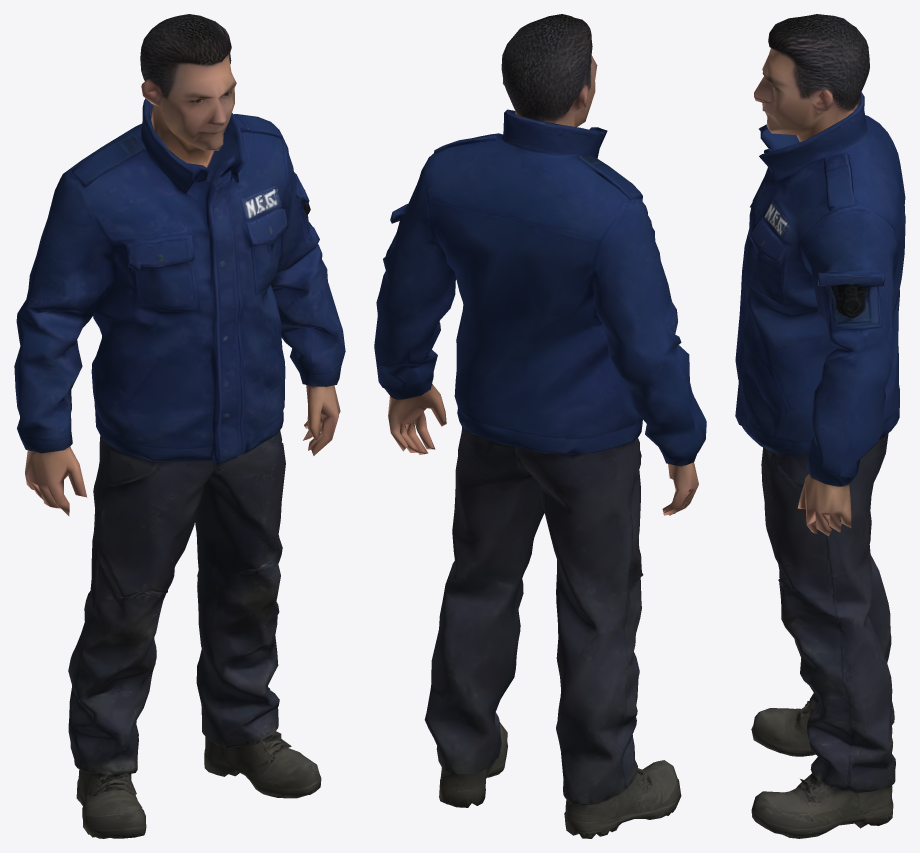
Rendered from level1-meg-staff.glb.
3 views of the same model, side by side, from view 1: azimuth 30°, elevation 25°; view 2: azimuth 150°, elevation 25°; view 3: azimuth 270°, elevation 25° (orthographic).
Parts seen in each view (by area): view 1: tripo_node_13c665f3-646e-4767-8853-f23f1f8bac09; view 2: tripo_node_13c665f3-646e-4767-8853-f23f1f8bac09; view 3: tripo_node_13c665f3-646e-4767-8853-f23f1f8bac09.
Part boxes in pixels (left/top/right/bottom): tripo_node_13c665f3-646e-4767-8853-f23f1f8bac09: left=14, top=14, right=345, bottom=838; tripo_node_13c665f3-646e-4767-8853-f23f1f8bac09: left=374, top=14, right=706, bottom=838; tripo_node_13c665f3-646e-4767-8853-f23f1f8bac09: left=735, top=14, right=905, bottom=838.
Bounding box in the file's own units: 0.4244 × 0.9807 × 0.1965.
1 material, 1 textured.
